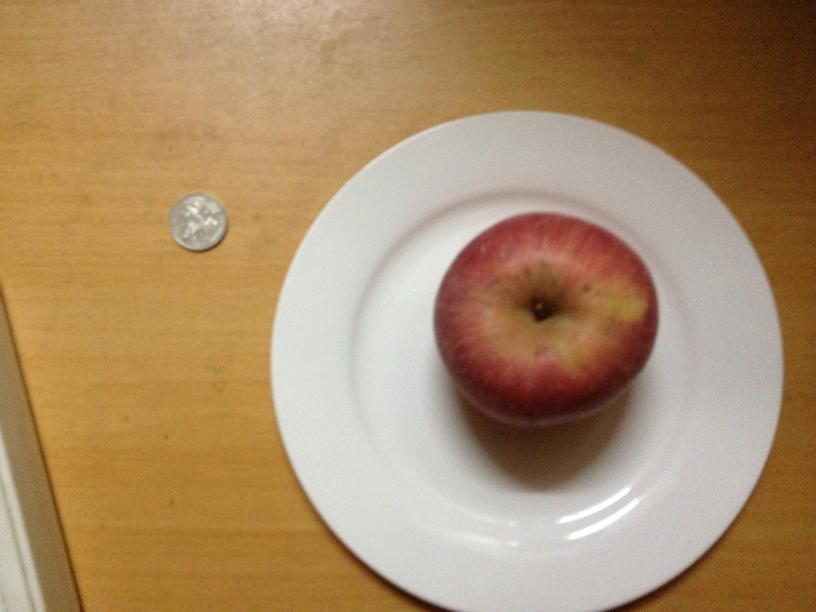apple: (435, 212, 659, 428)
coin: (168, 193, 227, 251)
